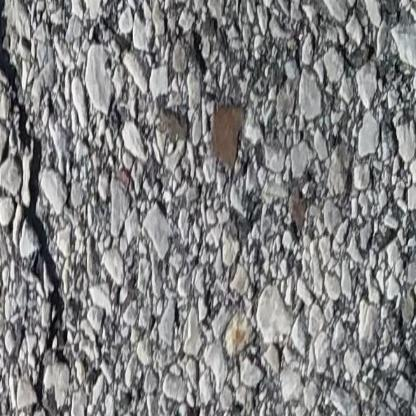Cracks: (0, 0, 70, 416)
